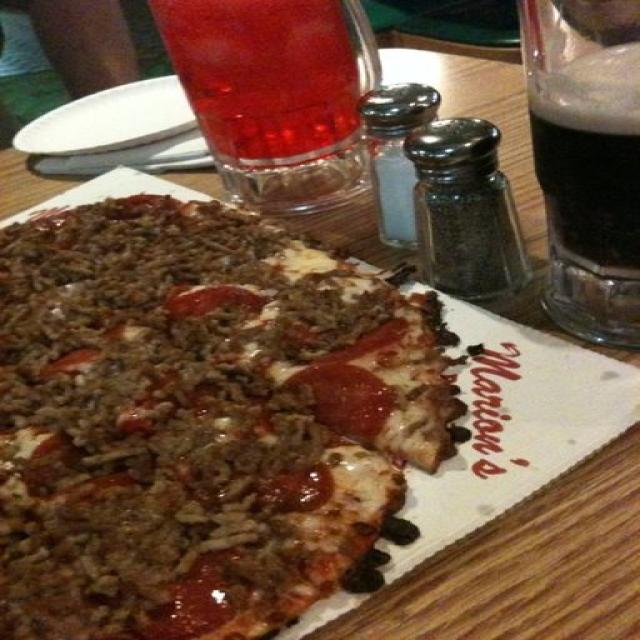Beef: (18, 514, 132, 640), (134, 417, 242, 543), (6, 228, 231, 285), (122, 352, 278, 410), (0, 290, 132, 338), (6, 379, 120, 433)
Pepperoni: (137, 556, 240, 640), (286, 367, 391, 440), (297, 320, 405, 357), (254, 456, 330, 508), (160, 285, 263, 323), (36, 442, 86, 494), (43, 349, 99, 378)
Pizza: (0, 194, 461, 640)
